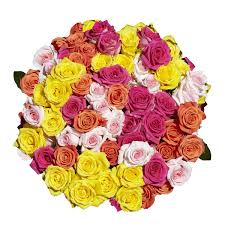lale: (116, 137, 153, 170), (143, 149, 171, 190), (87, 169, 120, 203), (173, 100, 209, 131), (163, 155, 195, 189), (15, 122, 47, 153), (67, 179, 98, 210), (116, 185, 148, 215), (72, 150, 110, 175), (179, 134, 209, 163), (43, 166, 71, 197), (51, 60, 88, 82), (44, 78, 70, 108), (138, 41, 169, 66), (127, 86, 159, 110), (155, 92, 183, 119), (32, 147, 58, 176), (41, 112, 67, 141), (154, 61, 183, 87), (94, 29, 120, 58), (74, 110, 108, 132), (115, 166, 146, 190), (99, 135, 121, 167), (143, 109, 163, 142), (50, 143, 75, 169), (62, 96, 88, 121), (93, 65, 125, 85), (163, 120, 187, 146), (104, 108, 127, 135), (155, 141, 183, 162), (125, 108, 146, 136), (55, 126, 78, 150), (19, 70, 42, 93), (78, 130, 102, 152), (23, 105, 46, 126), (69, 73, 92, 94), (107, 84, 127, 106)
